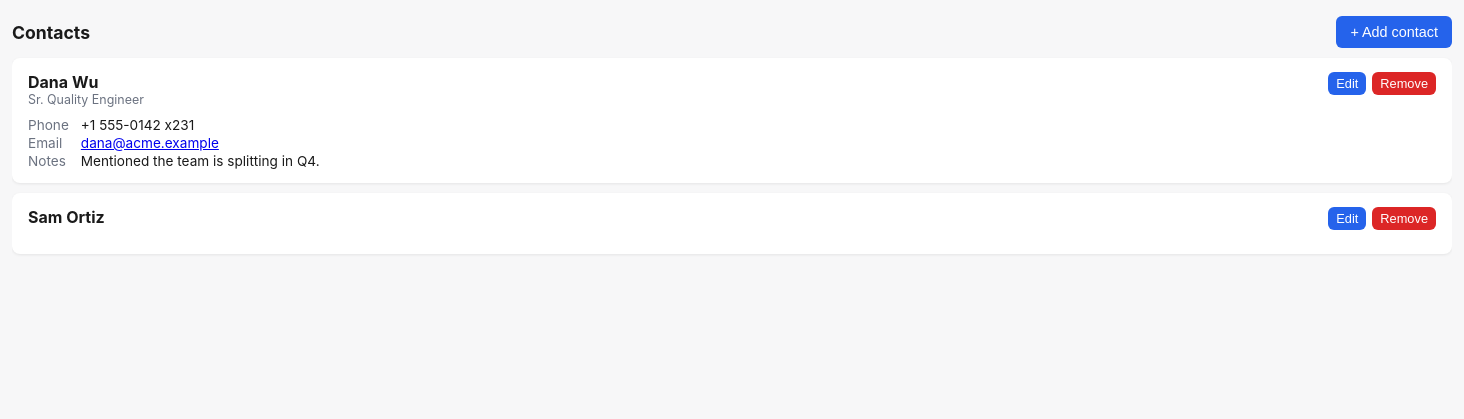
Test: ContactsEditor › editing › opens populated with the existing values
This screenshot has width=1464, height=419.
Click the button "Edit" in the row of "Sr. Quality Engineer" at (1347, 84), box [1328,72,1366,95]
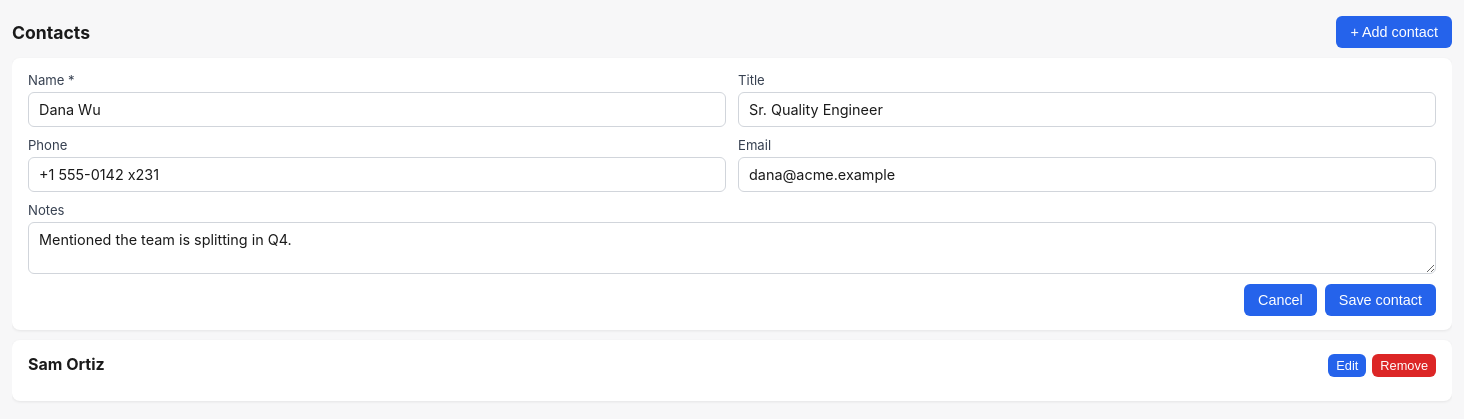
Expected: the field labelled "Name *" holds "Dana Wu", [28,92,726,127]
Expected: the field labelled "Title" holds "Sr. Quality Engineer", [738,92,1436,127]
